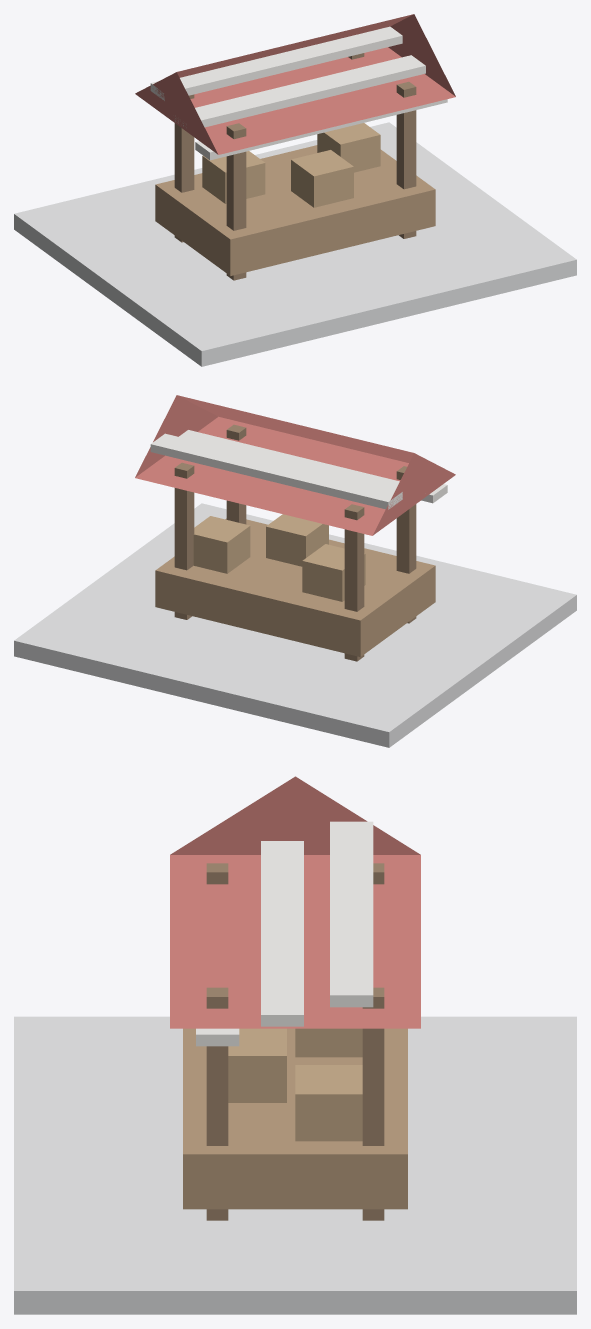
Rendered from market.glb.
3 views of the same model, one above another, from view 1: azimuth 30°, elevation 25°; view 2: azimuth 150°, elevation 25°; view 3: azimuth 270°, elevation 25° (orthographic). The views are drawn at different scales.
Visible parts, largest first — view 1: base, table, awning, stripe_2, stripe_1, crate_2, crate_3, post_back_0, post_back_1, crate_1, post_front_0, stripe_3; view 2: base, table, awning, stripe_1, crate_3, crate_2, stripe_2, crate_1, post_front_0, post_front_1, post_back_0, post_back_1; view 3: base, awning, table, stripe_1, stripe_2, crate_3, crate_2, post_front_1, post_back_1, crate_1, stripe_3.
Boxes of the visible parts, left/top/right/bottom form: base: left=14, top=122, right=576, bottom=366; table: left=155, top=145, right=435, bottom=275; awning: left=135, top=14, right=455, bottom=154; stripe_2: left=175, top=55, right=425, bottom=127; stripe_1: left=150, top=26, right=402, bottom=100; crate_2: left=291, top=150, right=353, bottom=207; crate_3: left=317, top=123, right=380, bottom=172; post_back_0: left=226, top=123, right=246, bottom=280; post_back_1: left=396, top=81, right=416, bottom=238; crate_1: left=202, top=151, right=265, bottom=203; post_front_0: left=174, top=94, right=194, bottom=242; stripe_3: left=195, top=99, right=447, bottom=160; base: left=14, top=503, right=576, bottom=747; table: left=155, top=518, right=435, bottom=656; awning: left=135, top=395, right=455, bottom=535; stripe_1: left=150, top=433, right=402, bottom=509; crate_3: left=193, top=516, right=250, bottom=573; crate_2: left=266, top=514, right=328, bottom=566; stripe_2: left=179, top=430, right=399, bottom=489; crate_1: left=302, top=544, right=365, bottom=601; post_front_0: left=344, top=504, right=364, bottom=661; post_front_1: left=174, top=462, right=194, bottom=619; post_back_0: left=396, top=466, right=416, bottom=623; post_back_1: left=226, top=424, right=246, bottom=524; base: left=14, top=1016, right=576, bottom=1314; awning: left=170, top=776, right=420, bottom=1028; table: left=183, top=1028, right=407, bottom=1209; stripe_1: left=330, top=821, right=373, bottom=1007; stripe_2: left=261, top=841, right=303, bottom=1026; crate_3: left=295, top=1065, right=362, bottom=1141; crate_2: left=228, top=1028, right=286, bottom=1102; post_front_1: left=362, top=987, right=384, bottom=1220; post_back_1: left=206, top=987, right=228, bottom=1220; crate_1: left=295, top=1028, right=362, bottom=1057; stripe_3: left=196, top=1028, right=239, bottom=1046.
Size of the model in its own units: 1.5 by 0.8 by 1.3.
